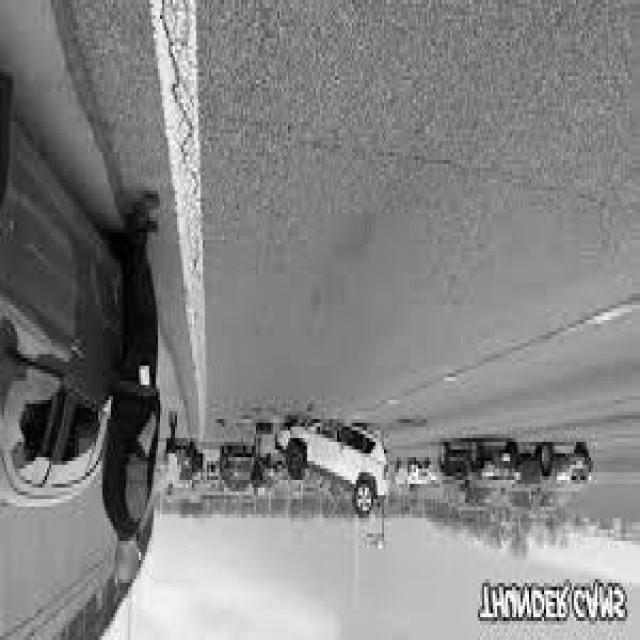severe: (269, 414, 392, 520)
